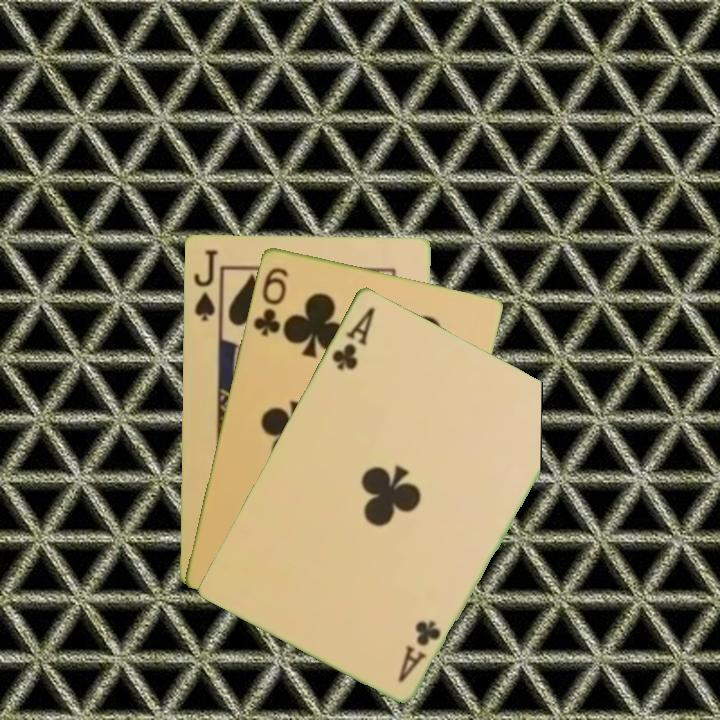6c: (249, 263, 291, 339)
Ac: (327, 303, 378, 373), (394, 615, 444, 686)
Js: (190, 245, 221, 323)
